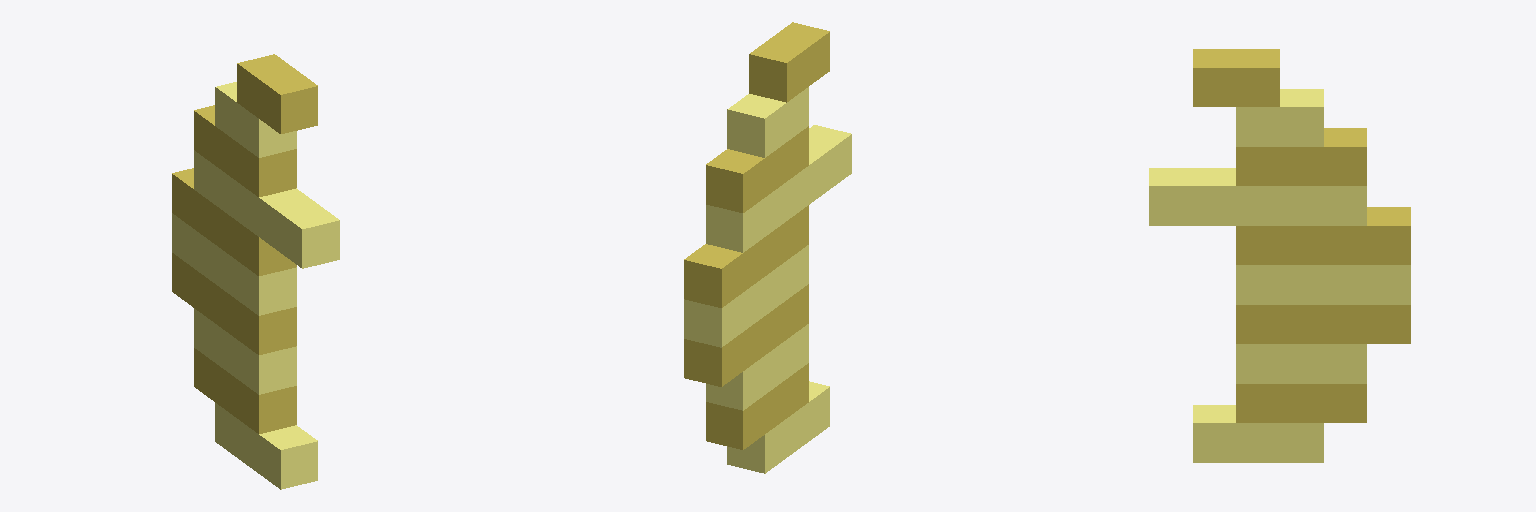
The picture shows the model from 3 angles: view 1: azimuth 30°, elevation 25°; view 2: azimuth 150°, elevation 25°; view 3: azimuth 270°, elevation 25°; orthographic projection.
Visible parts, largest first — view 1: object 1; view 2: object 1; view 3: object 1.
Boxes of the visible parts, <box> form: object 1: <box>172,54,339,489</box>; object 1: <box>684,22,851,473</box>; object 1: <box>1149,49,1410,462</box>.
Bounding box in the file's own units: 0.1 × 1 × 0.6.
1 materials, 1 textured.